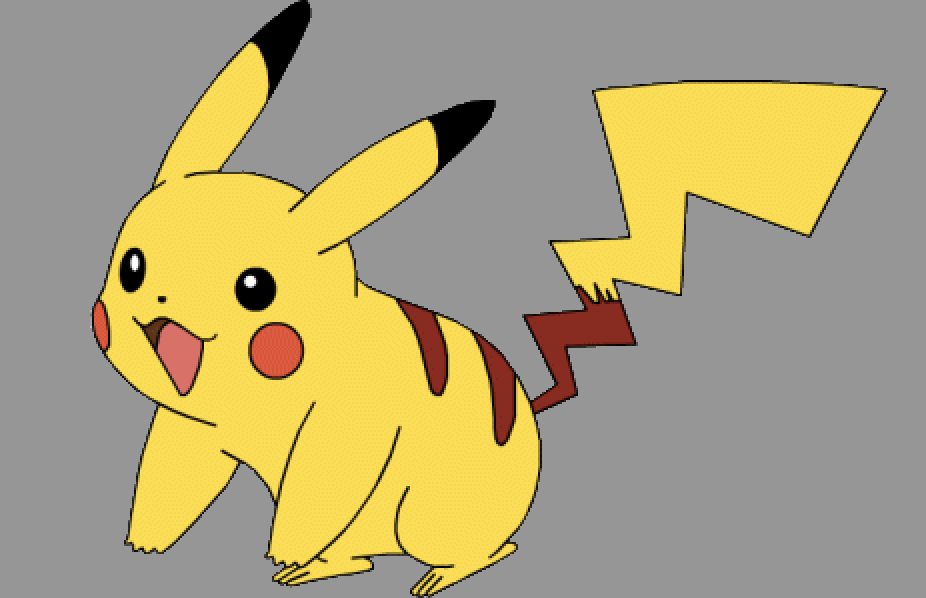Pikachu: (48, 6, 885, 596)
